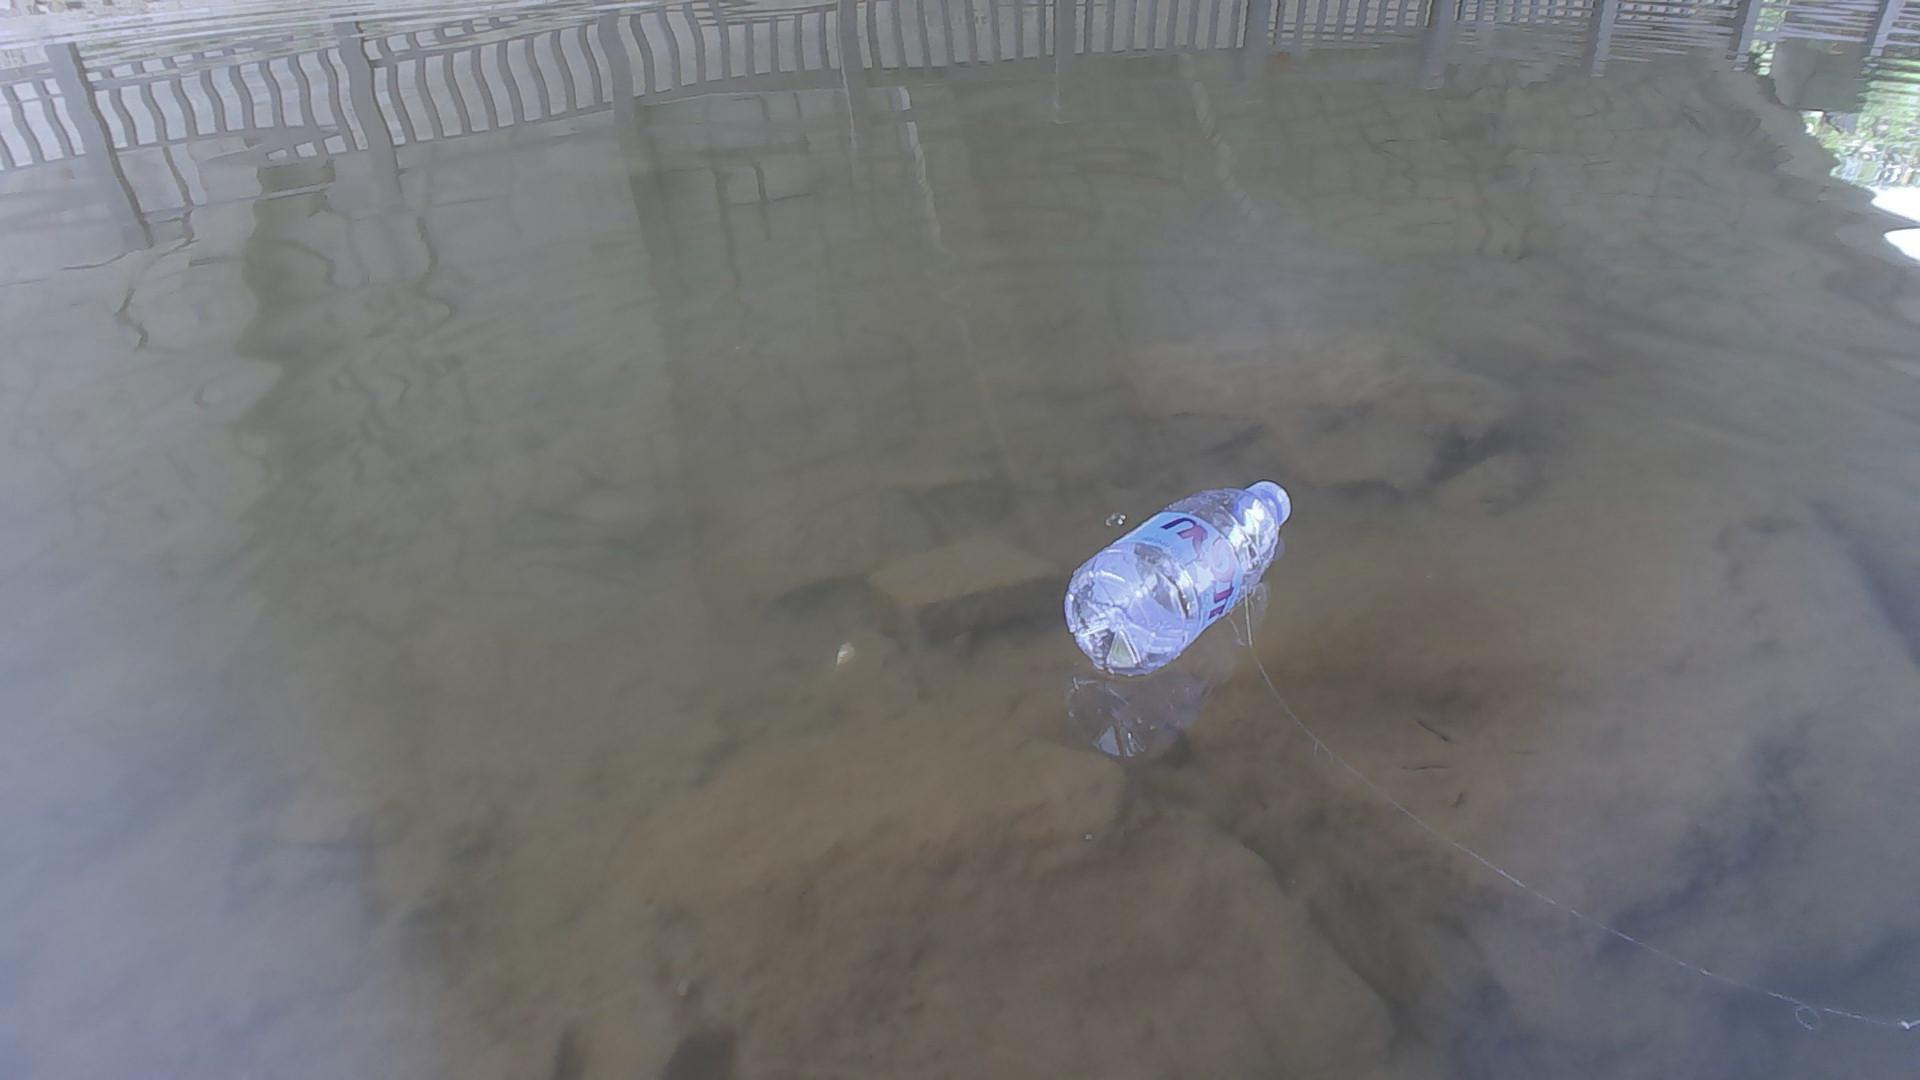Plastic: (1062, 469, 1304, 676)
